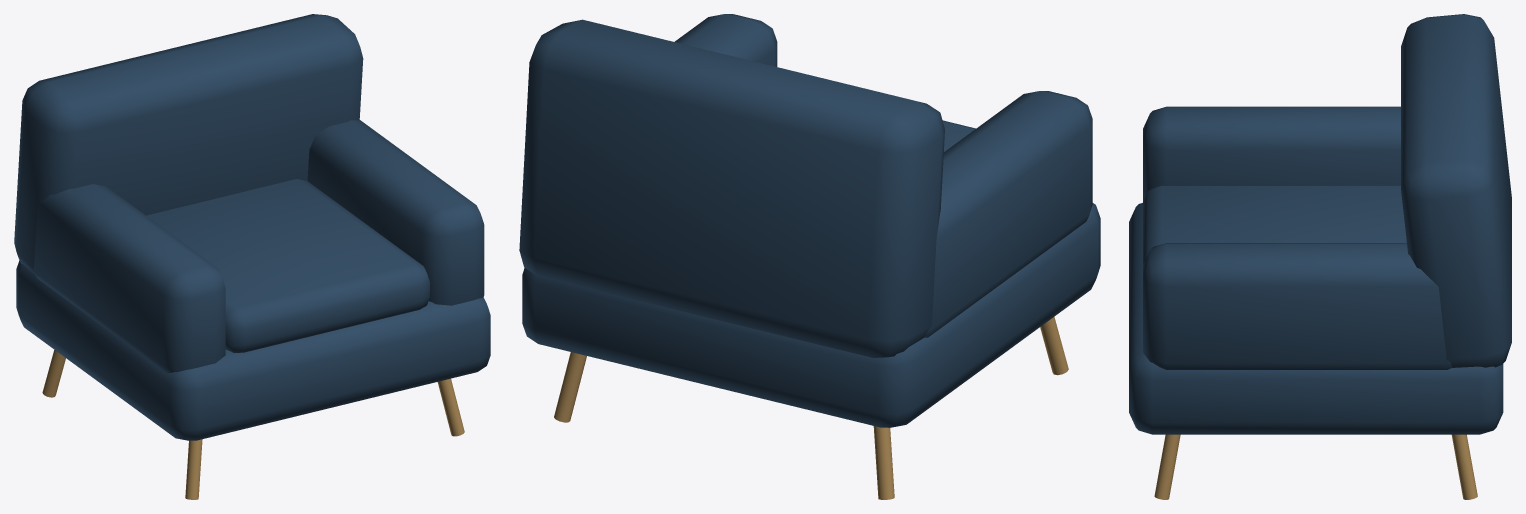
File: i_arm_2.glb
3 views of the same model, side by side, from view 1: azimuth 30°, elevation 25°; view 2: azimuth 150°, elevation 25°; view 3: azimuth 270°, elevation 25° (orthographic). The views are drawn at different scales.
Visible parts, largest first — view 1: o.002, o, o.001, o.003, o.004, o.005, o.007, o.006; view 2: o.002, o, o.003, o.004, o.006, o.008, o.005; view 3: o.004, o.002, o, o.003, o.001, o.007, o.008.
Part boxes in pixels (box(x1,y1,x2,y2)): o.002: box(14, 14, 363, 274); o: box(16, 260, 490, 440); o.001: box(146, 179, 429, 352); o.003: box(33, 184, 225, 373); o.004: box(307, 120, 484, 305); o.005: box(185, 439, 202, 499); o.007: box(437, 378, 464, 436); o.006: box(42, 350, 65, 397); o.002: box(519, 19, 944, 357); o: box(522, 203, 1100, 427); o.003: box(924, 91, 1092, 337); o.004: box(674, 14, 777, 66); o.006: box(873, 426, 894, 499); o.008: box(554, 352, 586, 422); o.005: box(1040, 317, 1068, 375); o.004: box(1143, 243, 1451, 369); o.002: box(1401, 14, 1511, 367); o: box(1129, 203, 1503, 434); o.003: box(1143, 106, 1400, 202); o.001: box(1143, 185, 1406, 264); o.007: box(1154, 434, 1180, 499); o.008: box(1451, 434, 1477, 499).
Size of the model in its own units: 0.85 by 0.8064 by 0.8185.
